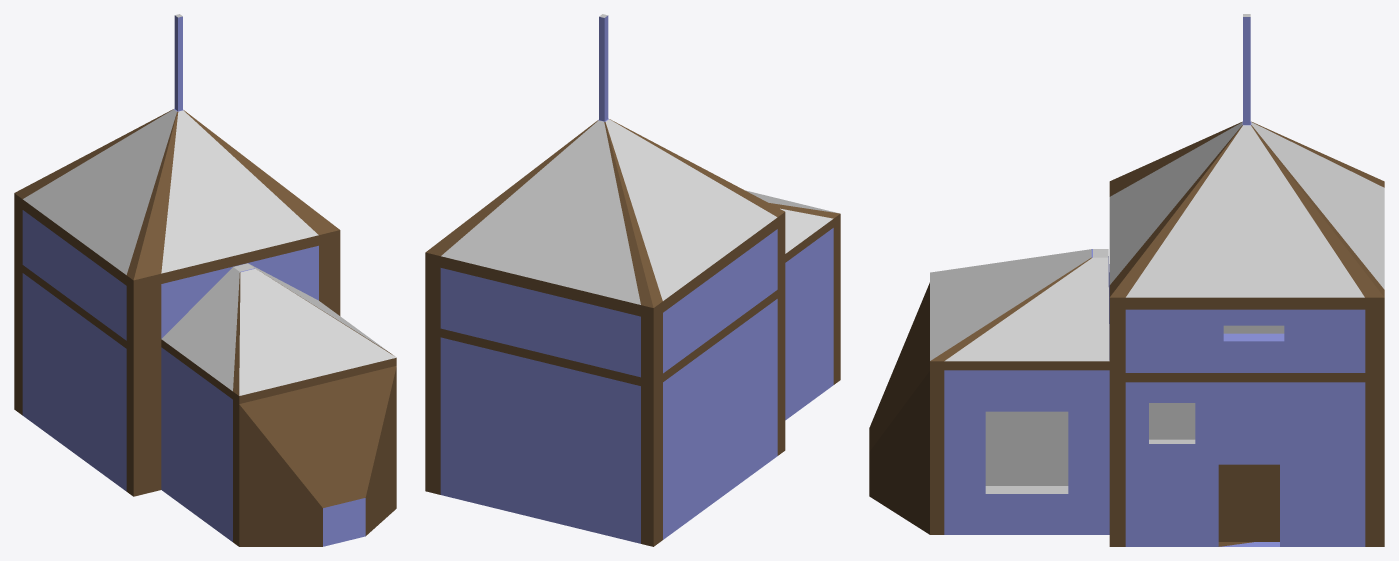
Rendered from house.fbx.
3 renders of one model, left to right at view 1: azimuth 30°, elevation 25°; view 2: azimuth 150°, elevation 25°; view 3: azimuth 270°, elevation 25°, orthographic. The views are drawn at different scales.
Parts seen in each view (by area): view 1: Cube; view 2: Cube; view 3: Cube.
Part boxes in pixels (<box>): Cube: <box>14,14,396,546</box>; Cube: <box>425,14,840,546</box>; Cube: <box>869,14,1384,546</box>.
Size of the model in its own units: 460 by 875 by 861.
